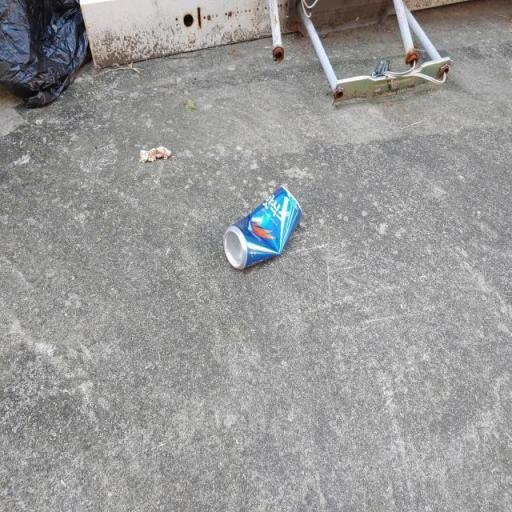metal: (203, 181, 311, 281)
